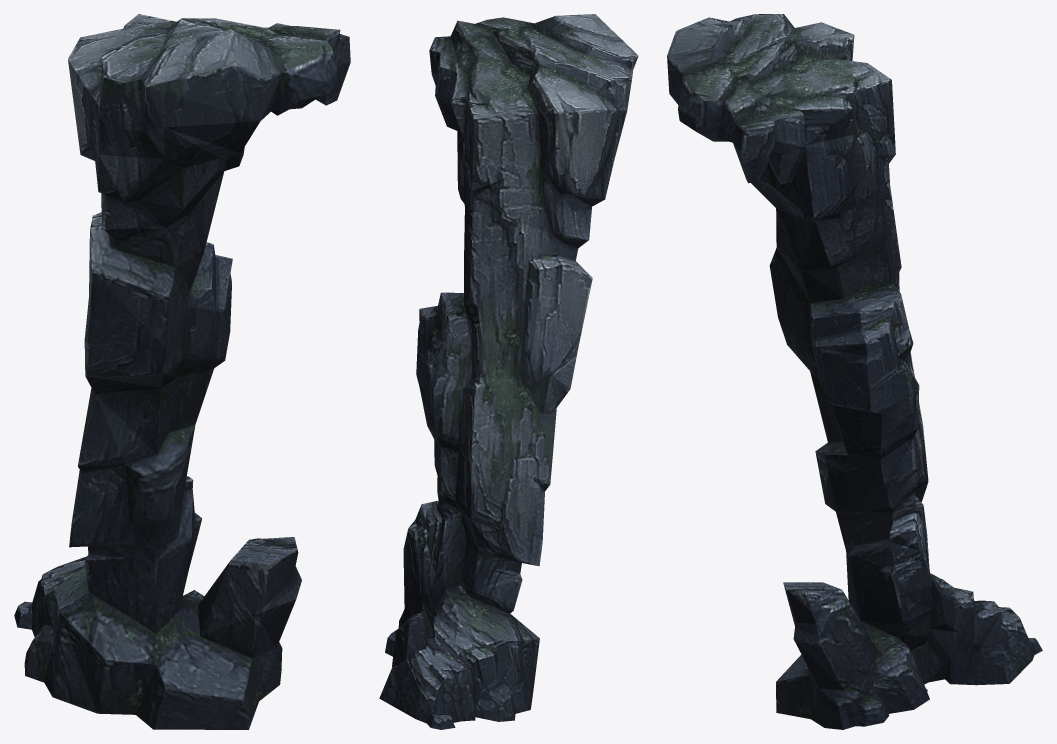
The model's file is cs_lobbynew02_shitou01_03.FBX.
The picture shows the model from 3 angles, left to right: view 1: azimuth 30°, elevation 25°; view 2: azimuth 150°, elevation 25°; view 3: azimuth 270°, elevation 25°; orthographic projection. The views are drawn at different scales.
Parts seen in each view (by area): view 1: cs_lobbynew02_shitou01_03; view 2: cs_lobbynew02_shitou01_03; view 3: cs_lobbynew02_shitou01_03.
Boxes of the visible parts, x1,y1,x2,y2 form: cs_lobbynew02_shitou01_03: [14, 14, 350, 729]; cs_lobbynew02_shitou01_03: [379, 14, 638, 729]; cs_lobbynew02_shitou01_03: [667, 14, 1042, 729].
Size of the model in its own units: 499 by 1464 by 754.
